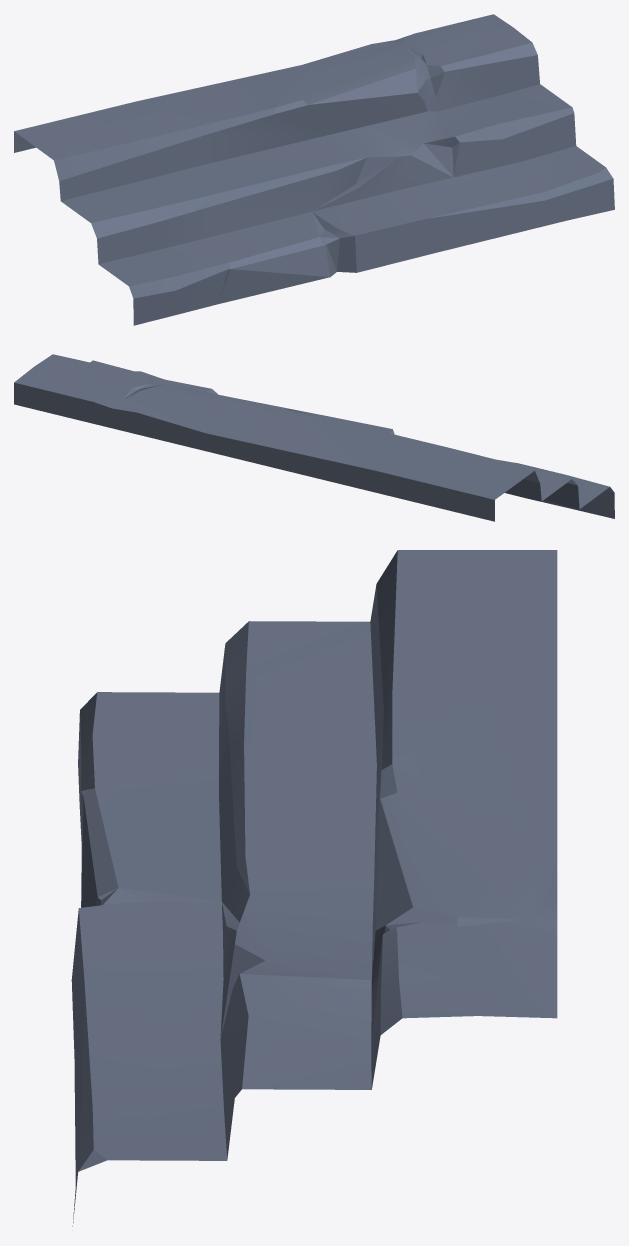
File: Stair_1.fbx
The picture shows the model from 3 angles, top to bottom: view 1: azimuth 30°, elevation 25°; view 2: azimuth 150°, elevation 25°; view 3: azimuth 270°, elevation 25°; orthographic projection. The views are drawn at different scales.
Visible parts, largest first — view 1: terrain_stair_103_1_LOD0; view 2: terrain_stair_103_1_LOD0; view 3: terrain_stair_103_1_LOD0.
Part boxes in pixels (x1,y1,x2,y2): terrain_stair_103_1_LOD0: [14, 14, 614, 325]; terrain_stair_103_1_LOD0: [14, 354, 614, 521]; terrain_stair_103_1_LOD0: [71, 550, 557, 1226].
Size of the model in its own units: 350 by 75.26 by 153.
Materials: 1 (1 with a texture image).
